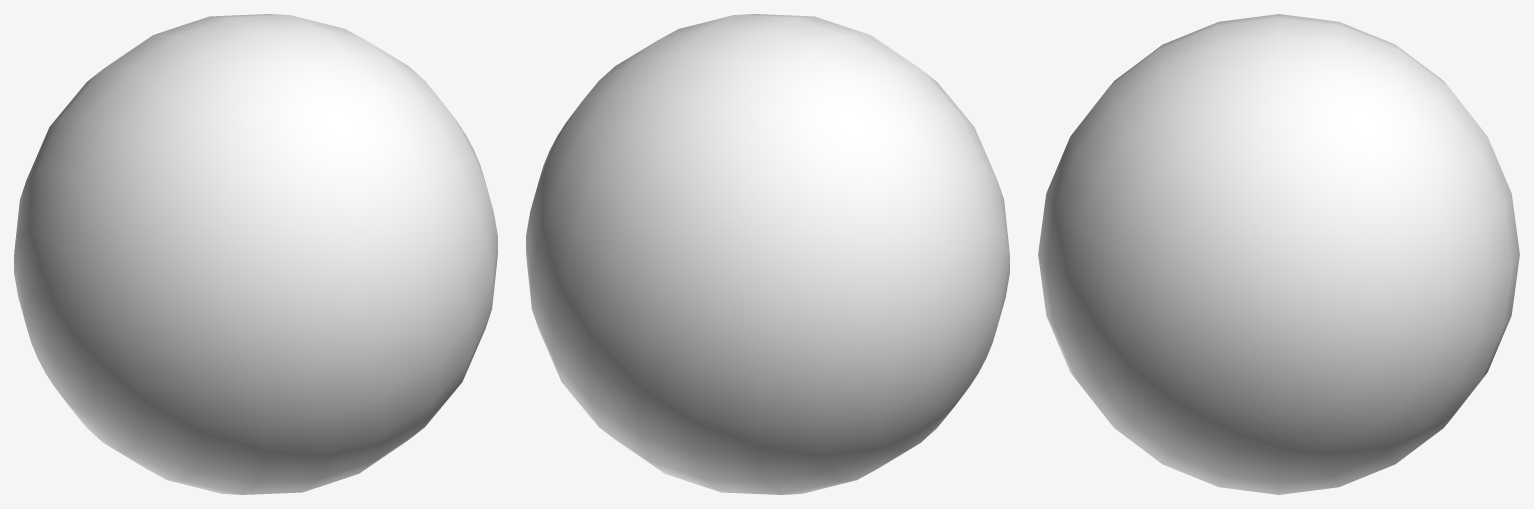
Rendered from effect_m10313_skill01_laser.fbx.
The picture shows the model from 3 angles, left to right: view 1: azimuth 30°, elevation 25°; view 2: azimuth 150°, elevation 25°; view 3: azimuth 270°, elevation 25°; orthographic projection.
Visible parts, largest first — view 1: end_flow_01; view 2: end_flow_01; view 3: end_flow_01.
Part boxes in pixels (x1,y1,x2,y2): end_flow_01: (14,14,497,494); end_flow_01: (526,14,1009,494); end_flow_01: (1038,14,1519,494).
Size of the model in its own units: 189 by 189 by 189.
